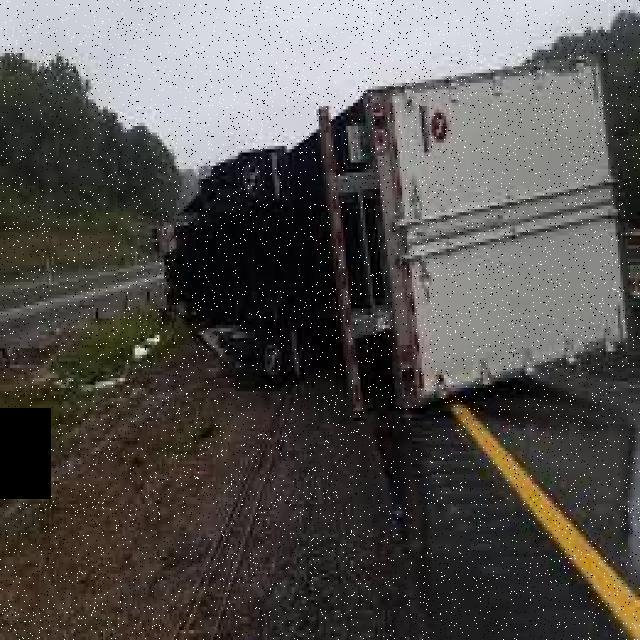severe: (152, 43, 638, 431)
